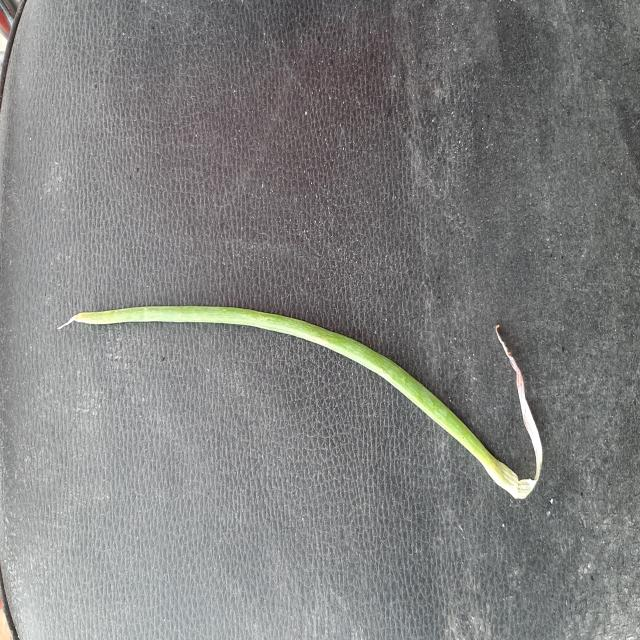onion: (59, 306, 542, 499)
